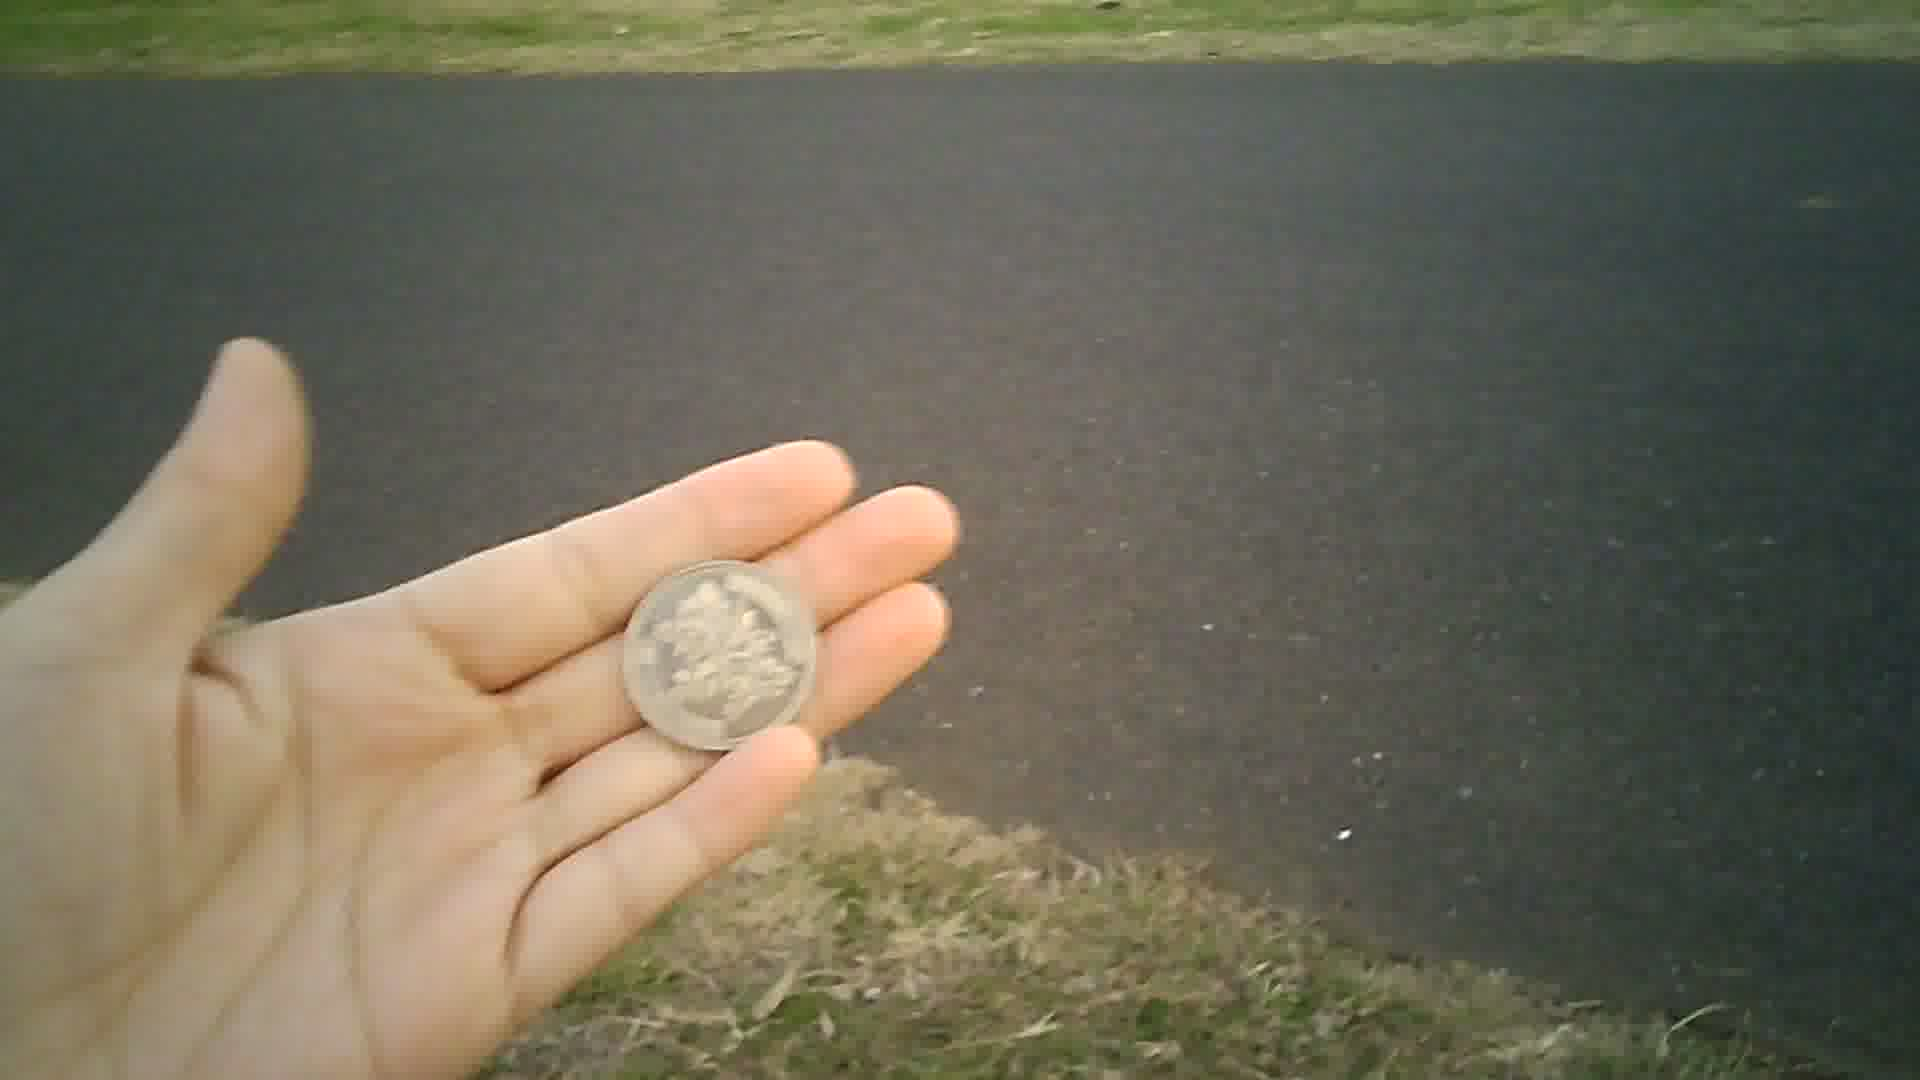500 Yen: (622, 560, 822, 748)
